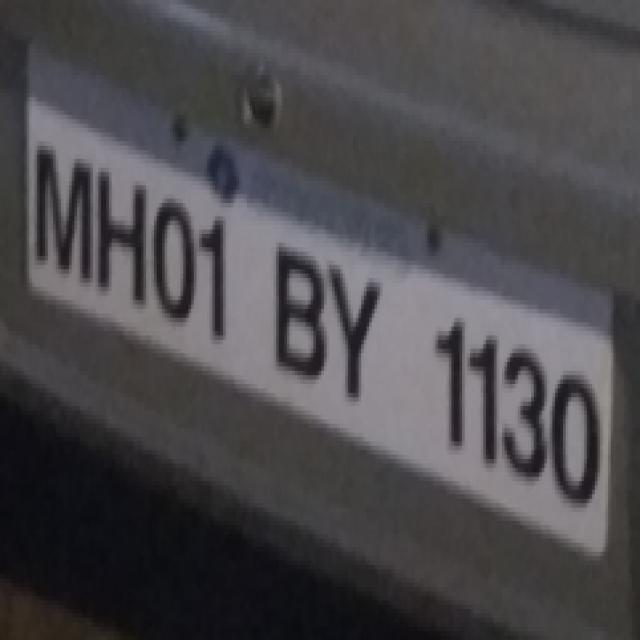0: (548, 367, 609, 505), (150, 192, 198, 325)
1: (432, 309, 474, 452), (468, 324, 504, 474), (196, 214, 236, 346)
3: (500, 341, 550, 488)
B: (270, 230, 331, 386)
H: (92, 154, 148, 310)
M: (28, 129, 96, 298)
Y: (325, 249, 388, 406)
